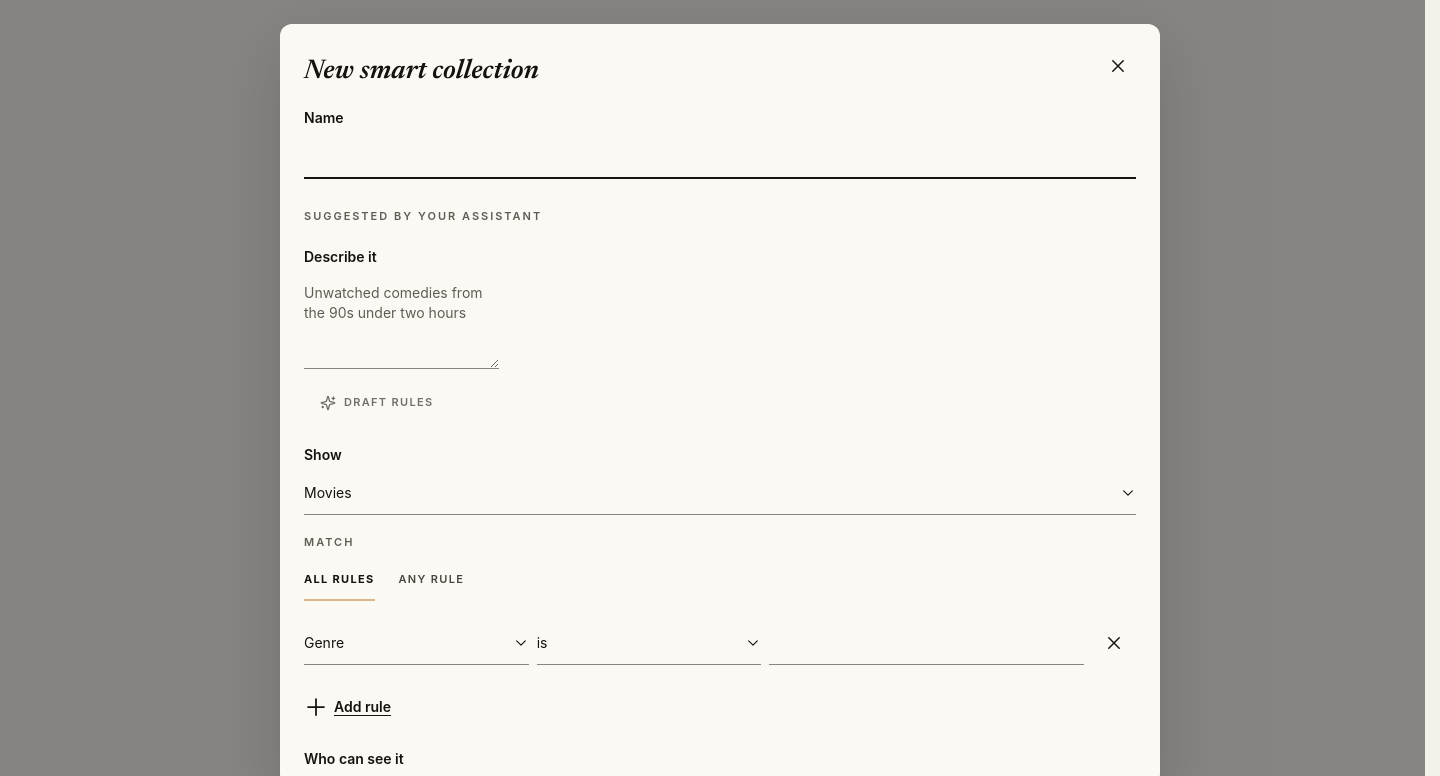
Test case: Smart collection builder › explains a rejected draft and hides drafting without an AI endpoint
The width and height of the screenshot is (1440, 776).
Type "something odd" into the text box labelled "Describe it" at {"x": 402, "y": 321}, box x1=304 y1=273 x2=499 y2=369
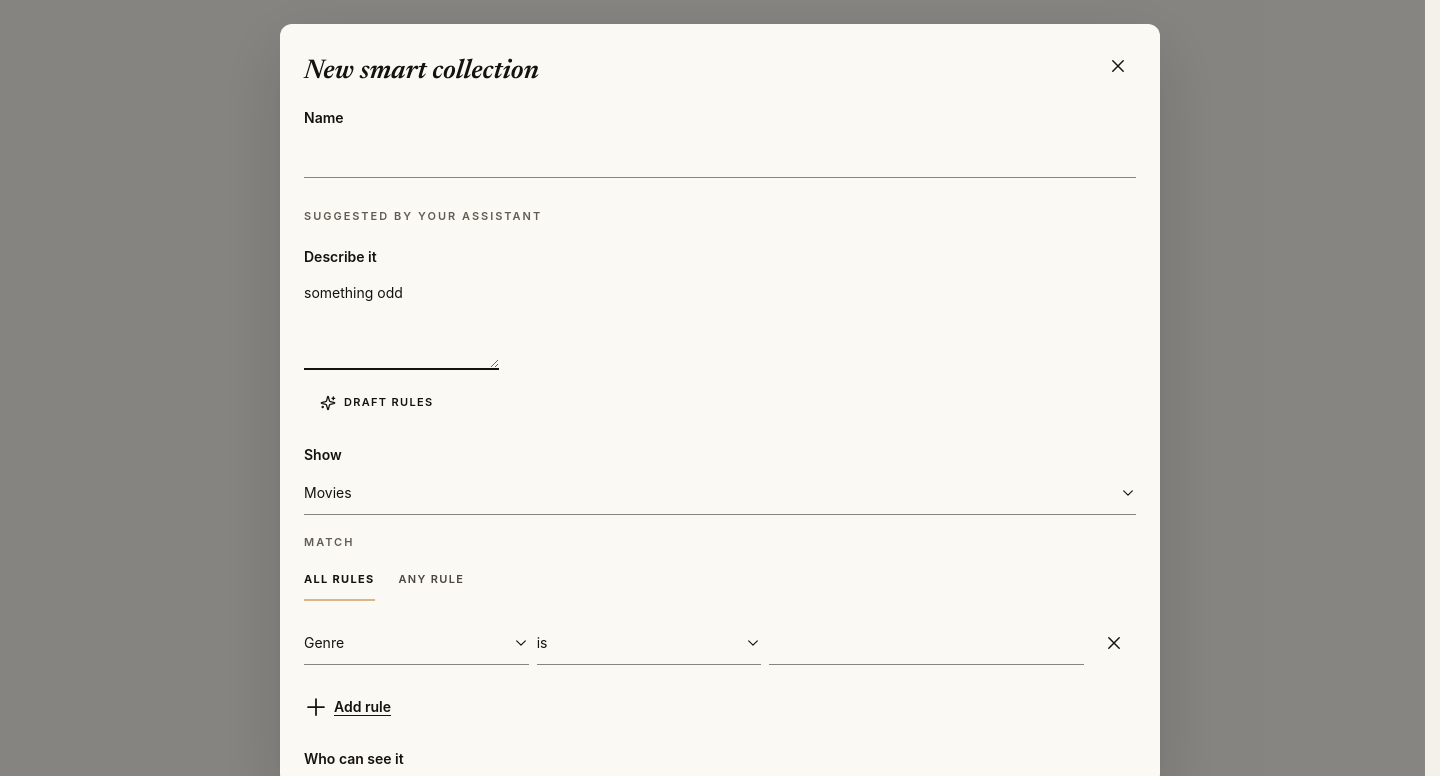
Click the button "Draft rules" at {"x": 377, "y": 403}, box x1=304 y1=381 x2=450 y2=425
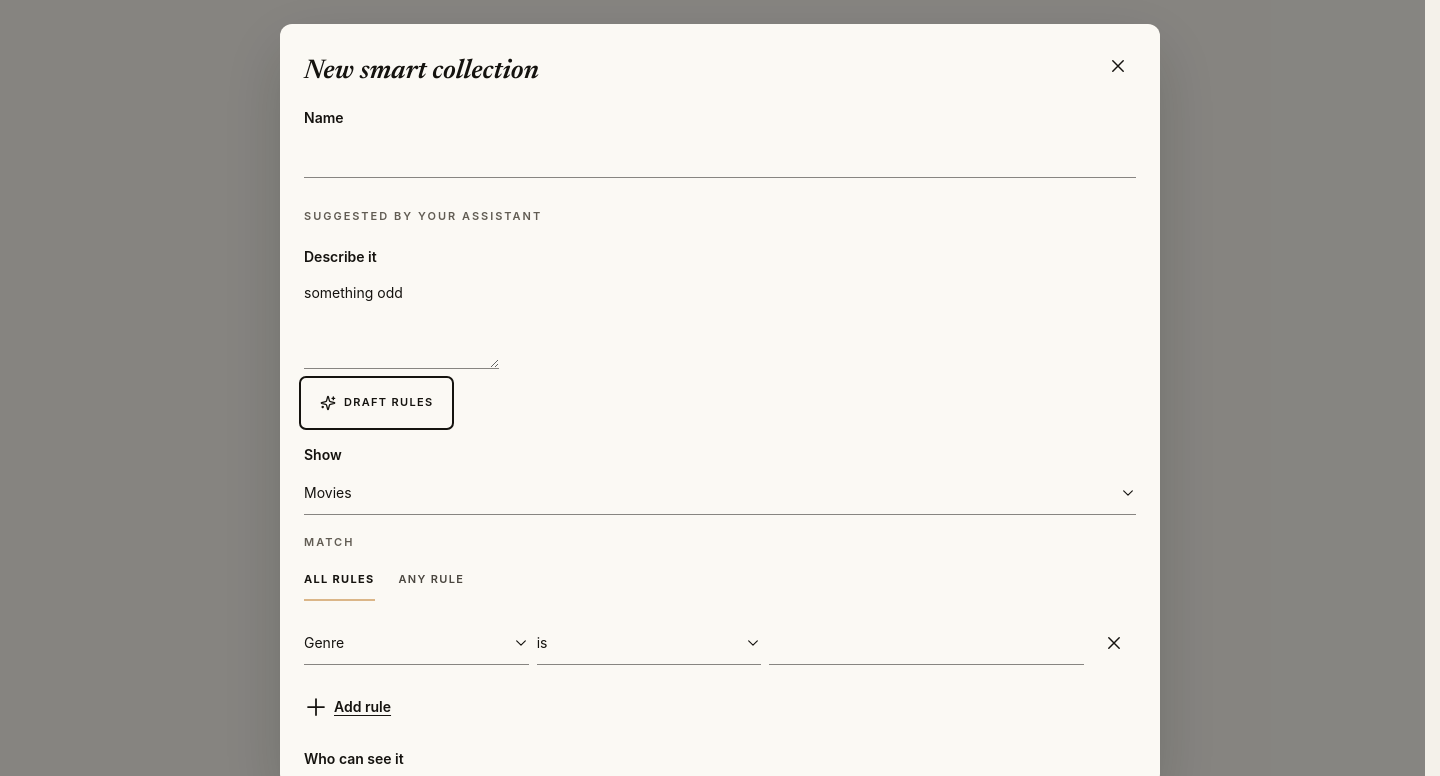
Click the button "Draft rules" at {"x": 377, "y": 403}, box x1=304 y1=381 x2=450 y2=425
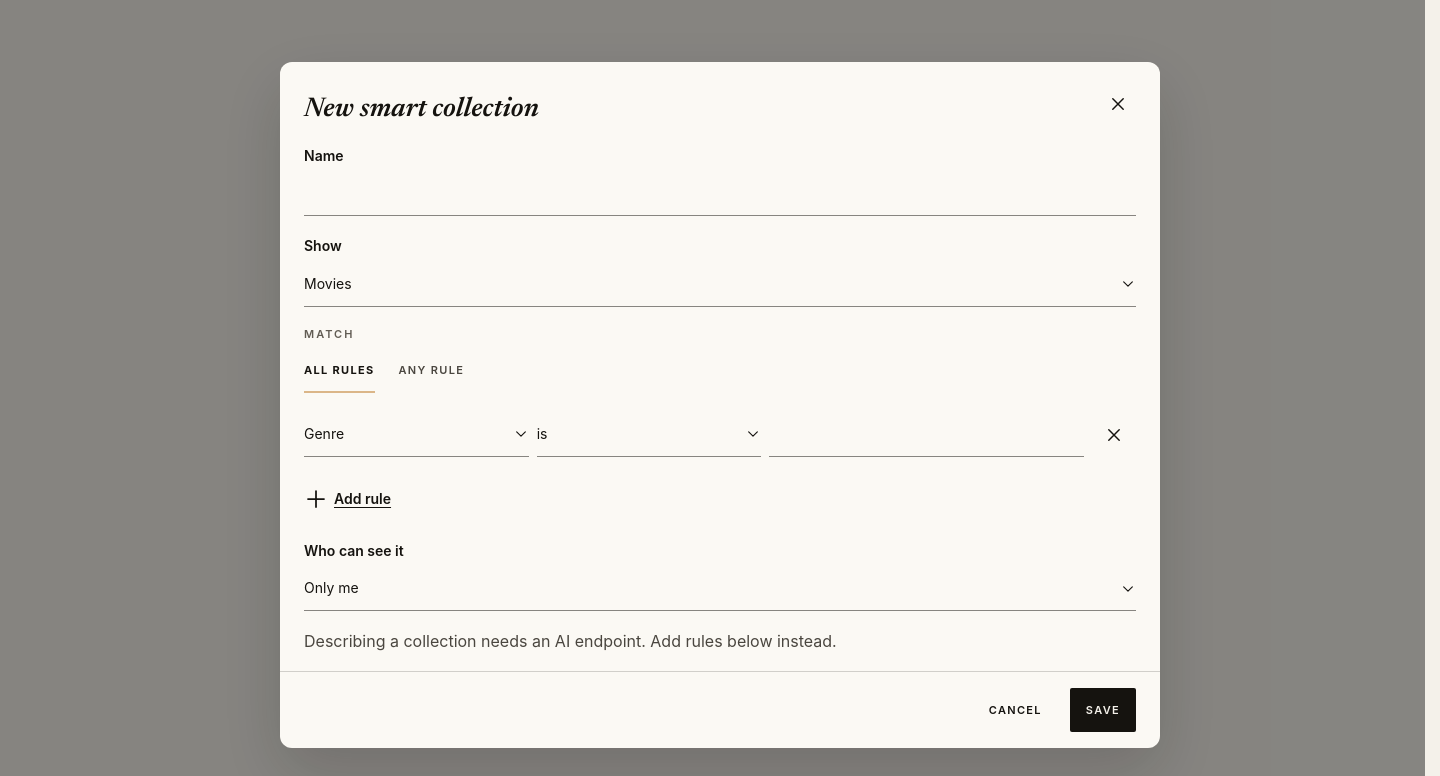
Check: the label labelled "Describe it" is gone
